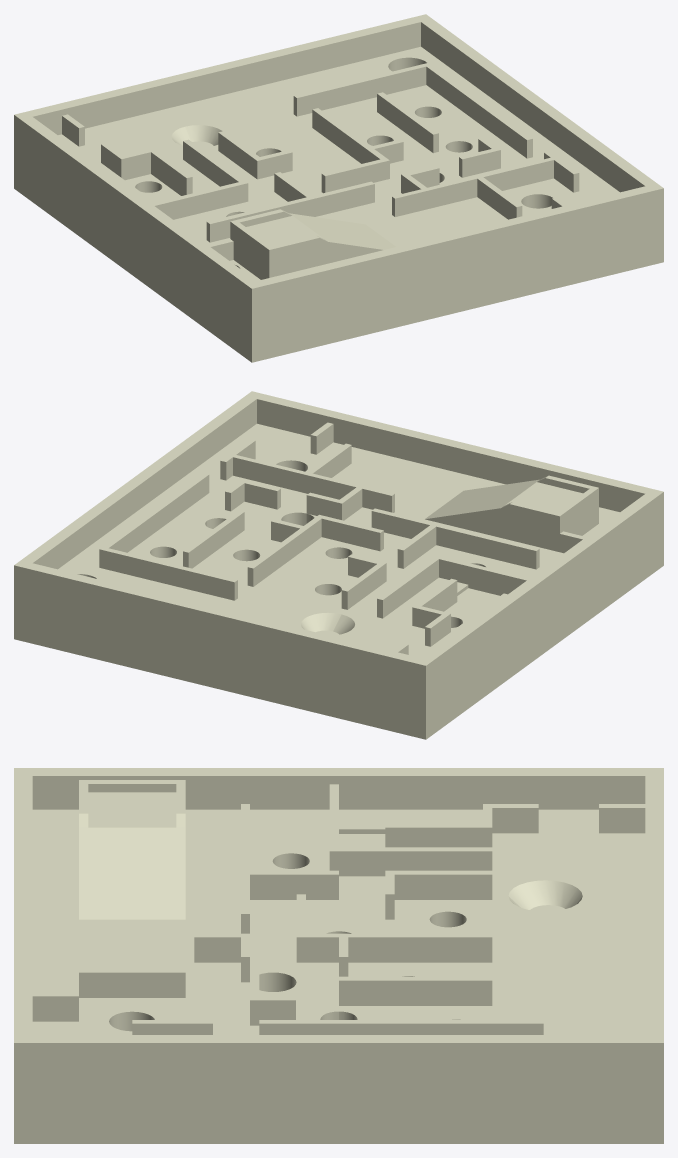
File: Maze Level 1 (fbx).fbx
3 renders of one model, top to bottom at view 1: azimuth 30°, elevation 25°; view 2: azimuth 150°, elevation 25°; view 3: azimuth 270°, elevation 25°, orthographic. The views are drawn at different scales.
Visible parts, largest first — view 1: Model; view 2: Model; view 3: Model.
Part boxes in pixels (bbox=[...]): Model: bbox=[14, 14, 663, 362]; Model: bbox=[14, 391, 663, 739]; Model: bbox=[14, 768, 663, 1143].
Bounding box in the file's own units: 4200 × 830 × 4200.
